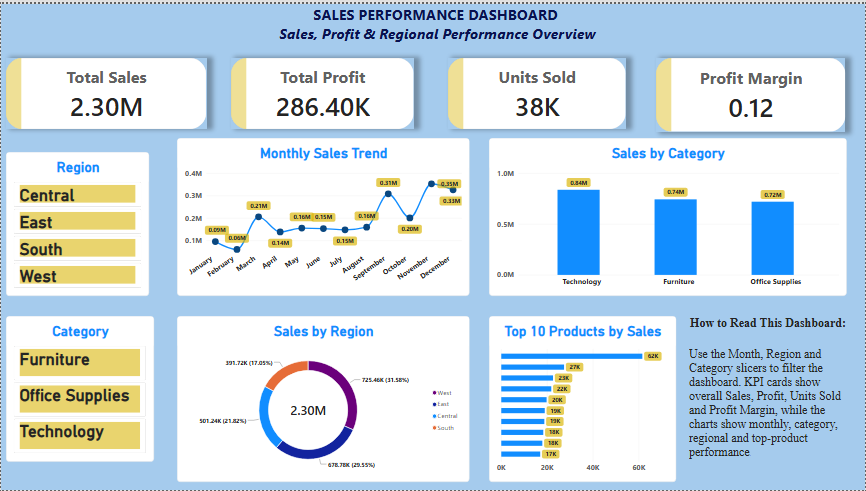

Layout of this report page (visuals, bound fields, positions):
{"tool":"powerbi","page":{"name":"Page 1","canvas":[1920,1080],"ordinal":0},"visuals":[{"type":"textbox","box":[10.8,0,1909.4,278.6],"z":0},{"type":"cardVisual","fields":{"Data":["Orders.Total Sales"]},"box":[11,120.7,445.6,158],"z":1000},{"type":"cardVisual","fields":{"Data":["Orders.Total Profit"]},"box":[511.5,120.7,406.1,158],"z":2000},{"type":"cardVisual","fields":{"Data":["Orders.Units Sold"]},"box":[994.4,120.7,395.1,158],"z":3000},{"type":"cardVisual","fields":{"Data":["Orders.Profit Margin"]},"box":[1455.4,120.7,421.5,164.6],"z":4000},{"type":"lineChart","title":"Monthly Sales Trend","fields":{"Category":["Orders.Order Date.Variation.Date Hierarchy.Month"],"Y":["Sum(Orders.Sales)"]},"box":[390.7,298.5,649.8,351.2],"z":5000},{"type":"clusteredColumnChart","title":"Sales by Category","fields":{"Category":["Orders.Category"],"Y":["Sum(Orders.Sales)"]},"box":[1084.4,298.5,794.6,351.2],"z":6000},{"type":"donutChart","title":"Sales by Region","fields":{"Category":["Orders.Region"],"Y":["Sum(Orders.Sales)"]},"box":[390.7,693.7,649.8,368.8],"z":7000},{"type":"clusteredBarChart","title":"Top 10 Products by Sales","fields":{"Category":["Orders.Product Name"],"Y":["Sum(Orders.Sales)"]},"box":[1084.4,693.3,415.6,368.9],"z":8000},{"type":"advancedSlicerVisual","fields":{"Values":["Orders.Region"]},"box":[11,329.3,318.3,320.5],"z":9000},{"type":"advancedSlicerVisual","fields":{"Values":["Orders.Category"]},"box":[11.1,693.3,328.9,324.4],"z":10000},{"type":"textbox","box":[1528.9,693.3,351.1,377.8],"z":10001}]}

Visuals, with their boxes in screenshot pixels (x1, y1, x2, y2), scaled from the page's 1920x1080 canvas onto the 866x491 screenshot:
textbox: [x1=5, y1=0, x2=865, y2=127]
cardVisual - Orders.Total Sales: [x1=5, y1=55, x2=206, y2=127]
cardVisual - Orders.Total Profit: [x1=231, y1=55, x2=414, y2=127]
cardVisual - Orders.Units Sold: [x1=449, y1=55, x2=627, y2=127]
cardVisual - Orders.Profit Margin: [x1=656, y1=55, x2=847, y2=130]
"Monthly Sales Trend" lineChart: [x1=176, y1=136, x2=469, y2=295]
"Sales by Category" clusteredColumnChart: [x1=489, y1=136, x2=848, y2=295]
"Sales by Region" donutChart: [x1=176, y1=315, x2=469, y2=483]
"Top 10 Products by Sales" clusteredBarChart: [x1=489, y1=315, x2=677, y2=483]
advancedSlicerVisual - Orders.Region: [x1=5, y1=150, x2=149, y2=295]
advancedSlicerVisual - Orders.Category: [x1=5, y1=315, x2=153, y2=463]
textbox: [x1=690, y1=315, x2=848, y2=487]
